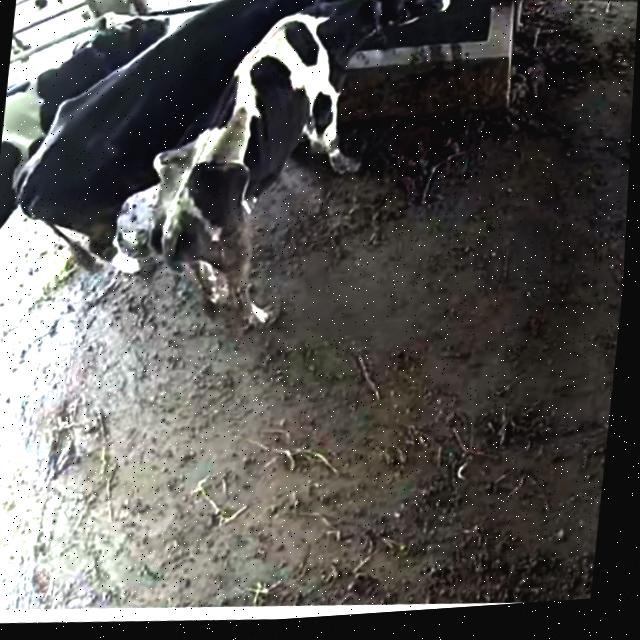drink: (287, 0, 457, 86), (215, 0, 340, 49)
